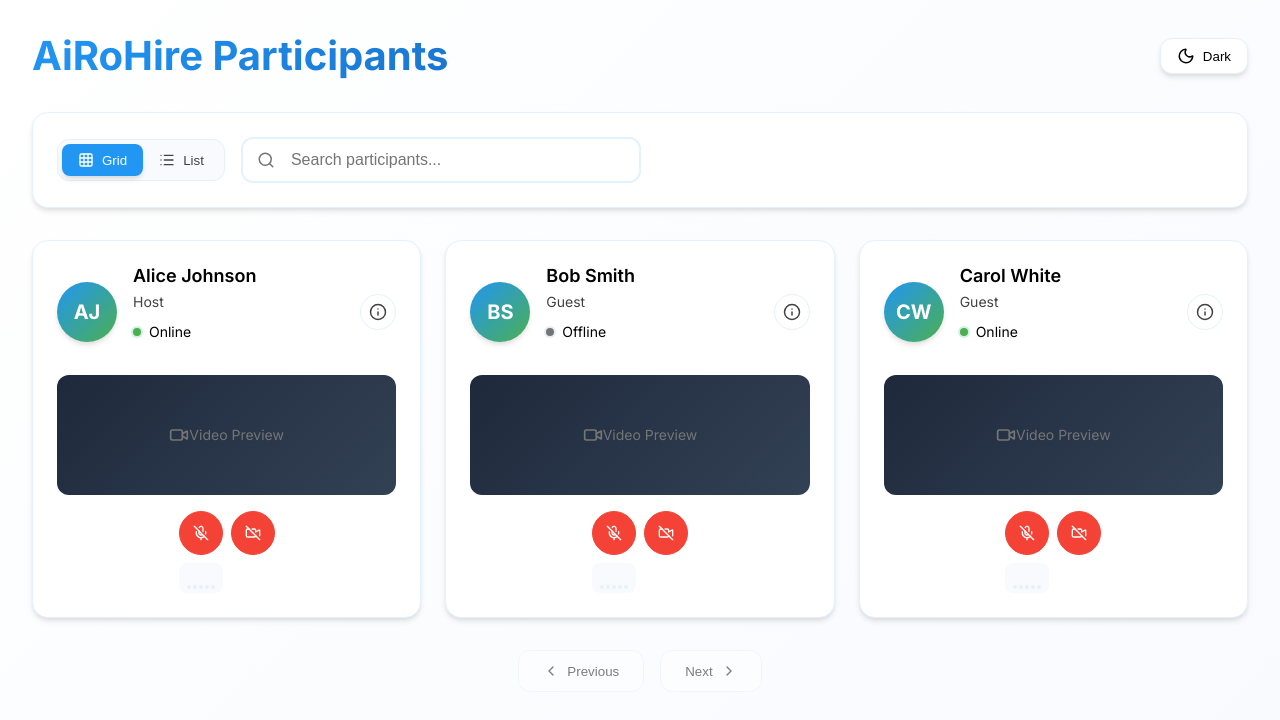
App Component › opens participant modal when info button is clicked
Expected: the text "Alice Johnson" is shown, [133, 265, 256, 287]
Click the button named "Show more details" in the row of "Host": point(378, 312) [360, 294, 396, 330]
(page scrolled)
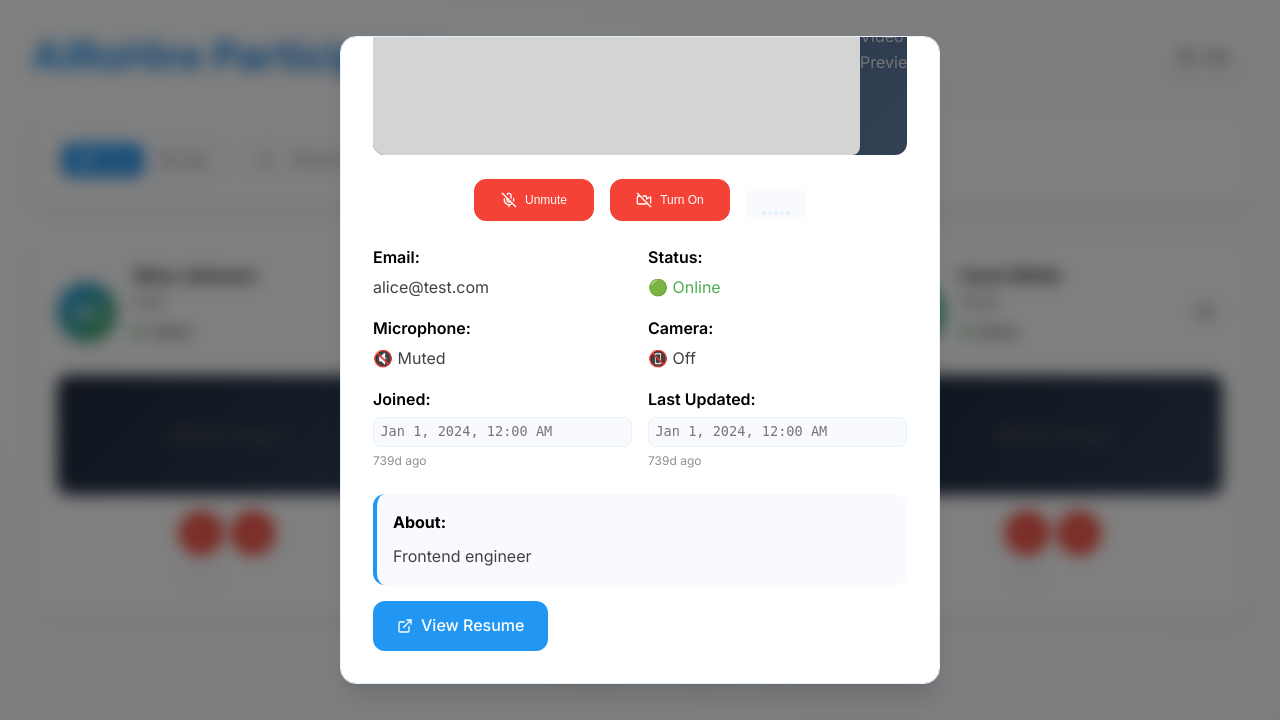
Result: the text "alice@test.com" is shown at [373, 277, 489, 297]
Result: the text "Frontend engineer" is shown at [393, 546, 532, 566]
